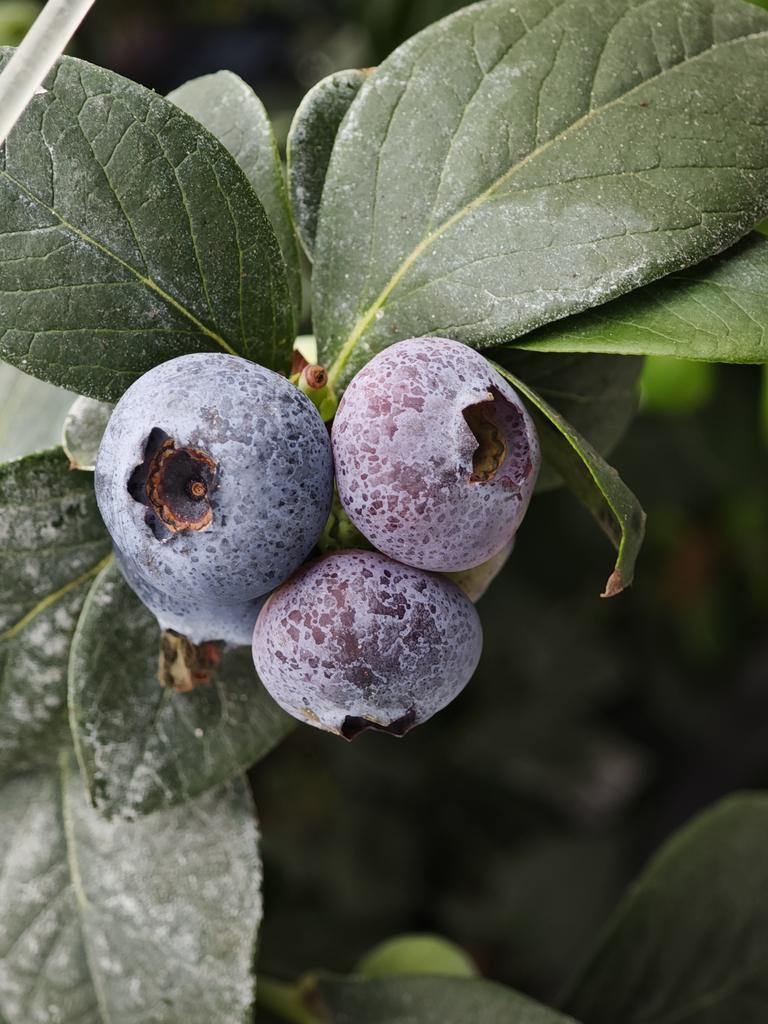RipeBlueBerry: (94, 345, 339, 610)
Semi-RipeBlueBerry: (334, 335, 545, 573), (250, 554, 487, 739)
